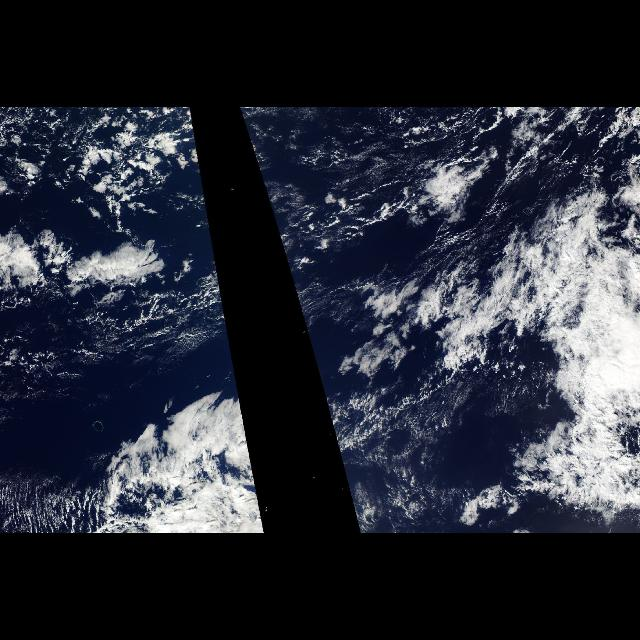Fish: (380, 226, 638, 464)
Gravel: (4, 108, 212, 234), (240, 108, 276, 226)
